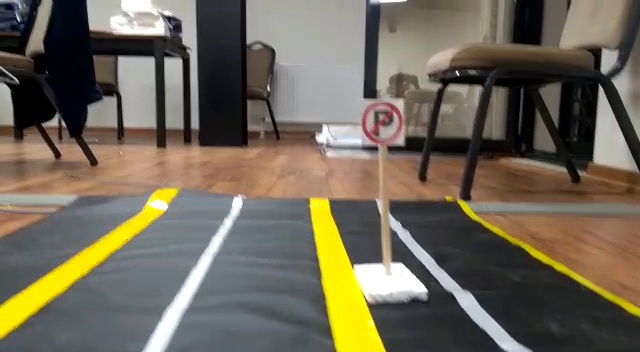park_yapilmaz: (357, 97, 405, 145)
